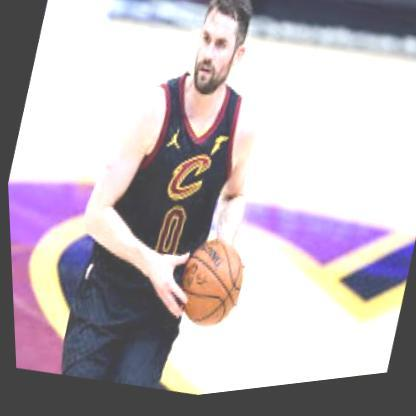basketball: (166, 235, 251, 342)
